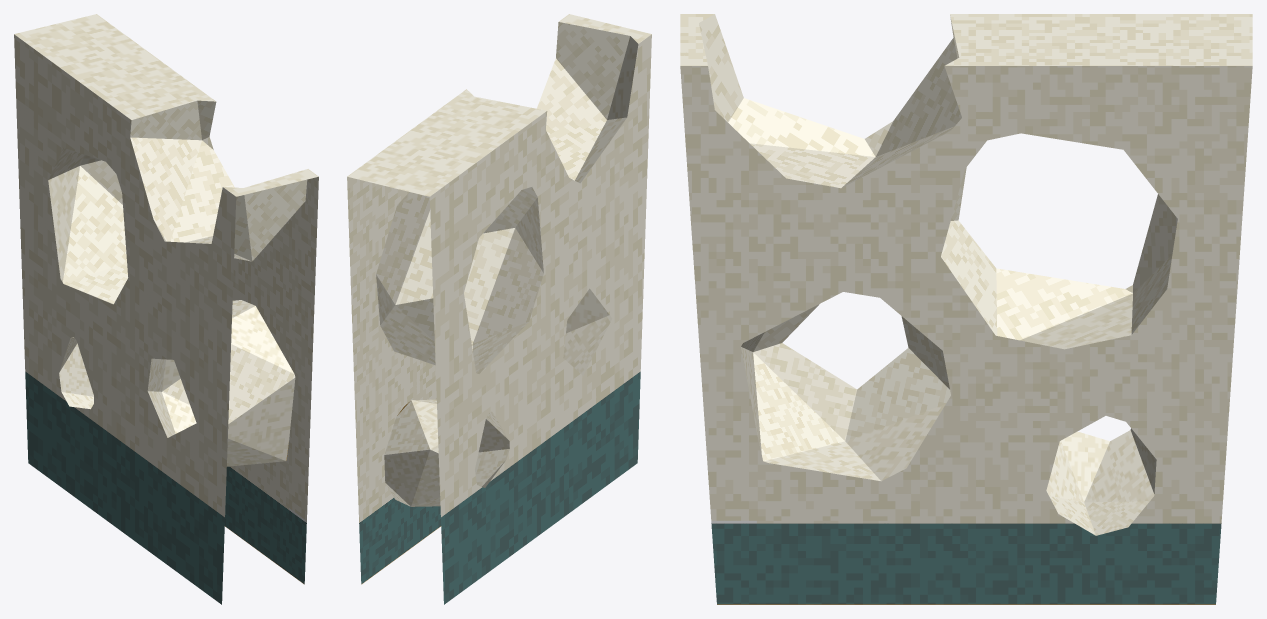
File: murallarotagreciaver3.fbx
The picture shows the model from 3 angles, left to right: view 1: azimuth 30°, elevation 25°; view 2: azimuth 150°, elevation 25°; view 3: azimuth 270°, elevation 25°; orthographic projection. The views are drawn at different scales.
Visible parts, largest first — view 1: MurallaRota3; view 2: MurallaRota3; view 3: MurallaRota3.
Boxes of the visible parts, x1,y1,x2,y2 form: MurallaRota3: (14, 14, 318, 604); MurallaRota3: (347, 14, 651, 604); MurallaRota3: (680, 14, 1252, 604).
Bounding box in the file's own units: 1.24 × 5.78 × 6.
Materials: 1 (1 with a texture image).
